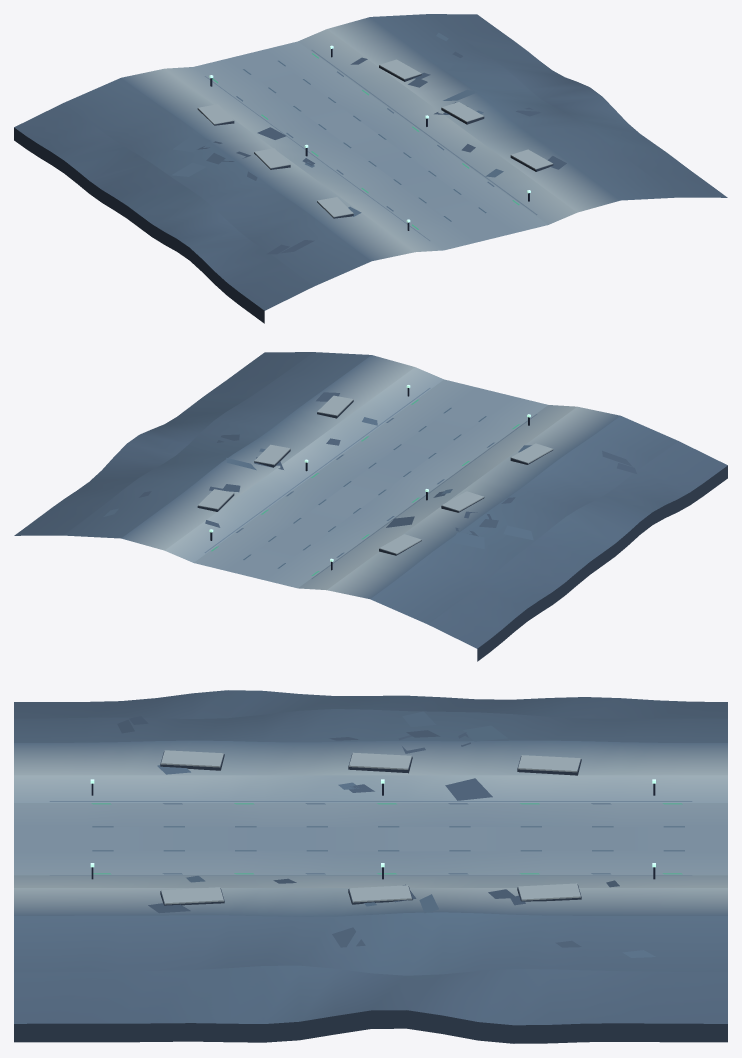
The model's file is 06-village.glb.
3 renders of one model, top to bottom at view 1: azimuth 30°, elevation 25°; view 2: azimuth 150°, elevation 25°; view 3: azimuth 270°, elevation 25°, orthographic. The views are drawn at different scales.
Parts seen in each view (by area): view 1: village; view 2: village; view 3: village.
Part boxes in pixels (left/top/right/bottom): village: left=14, top=14, right=727, bottom=323; village: left=14, top=352, right=727, bottom=661; village: left=14, top=690, right=727, bottom=1043.
Bounding box in the file's own units: 32 × 2.83 × 30.
